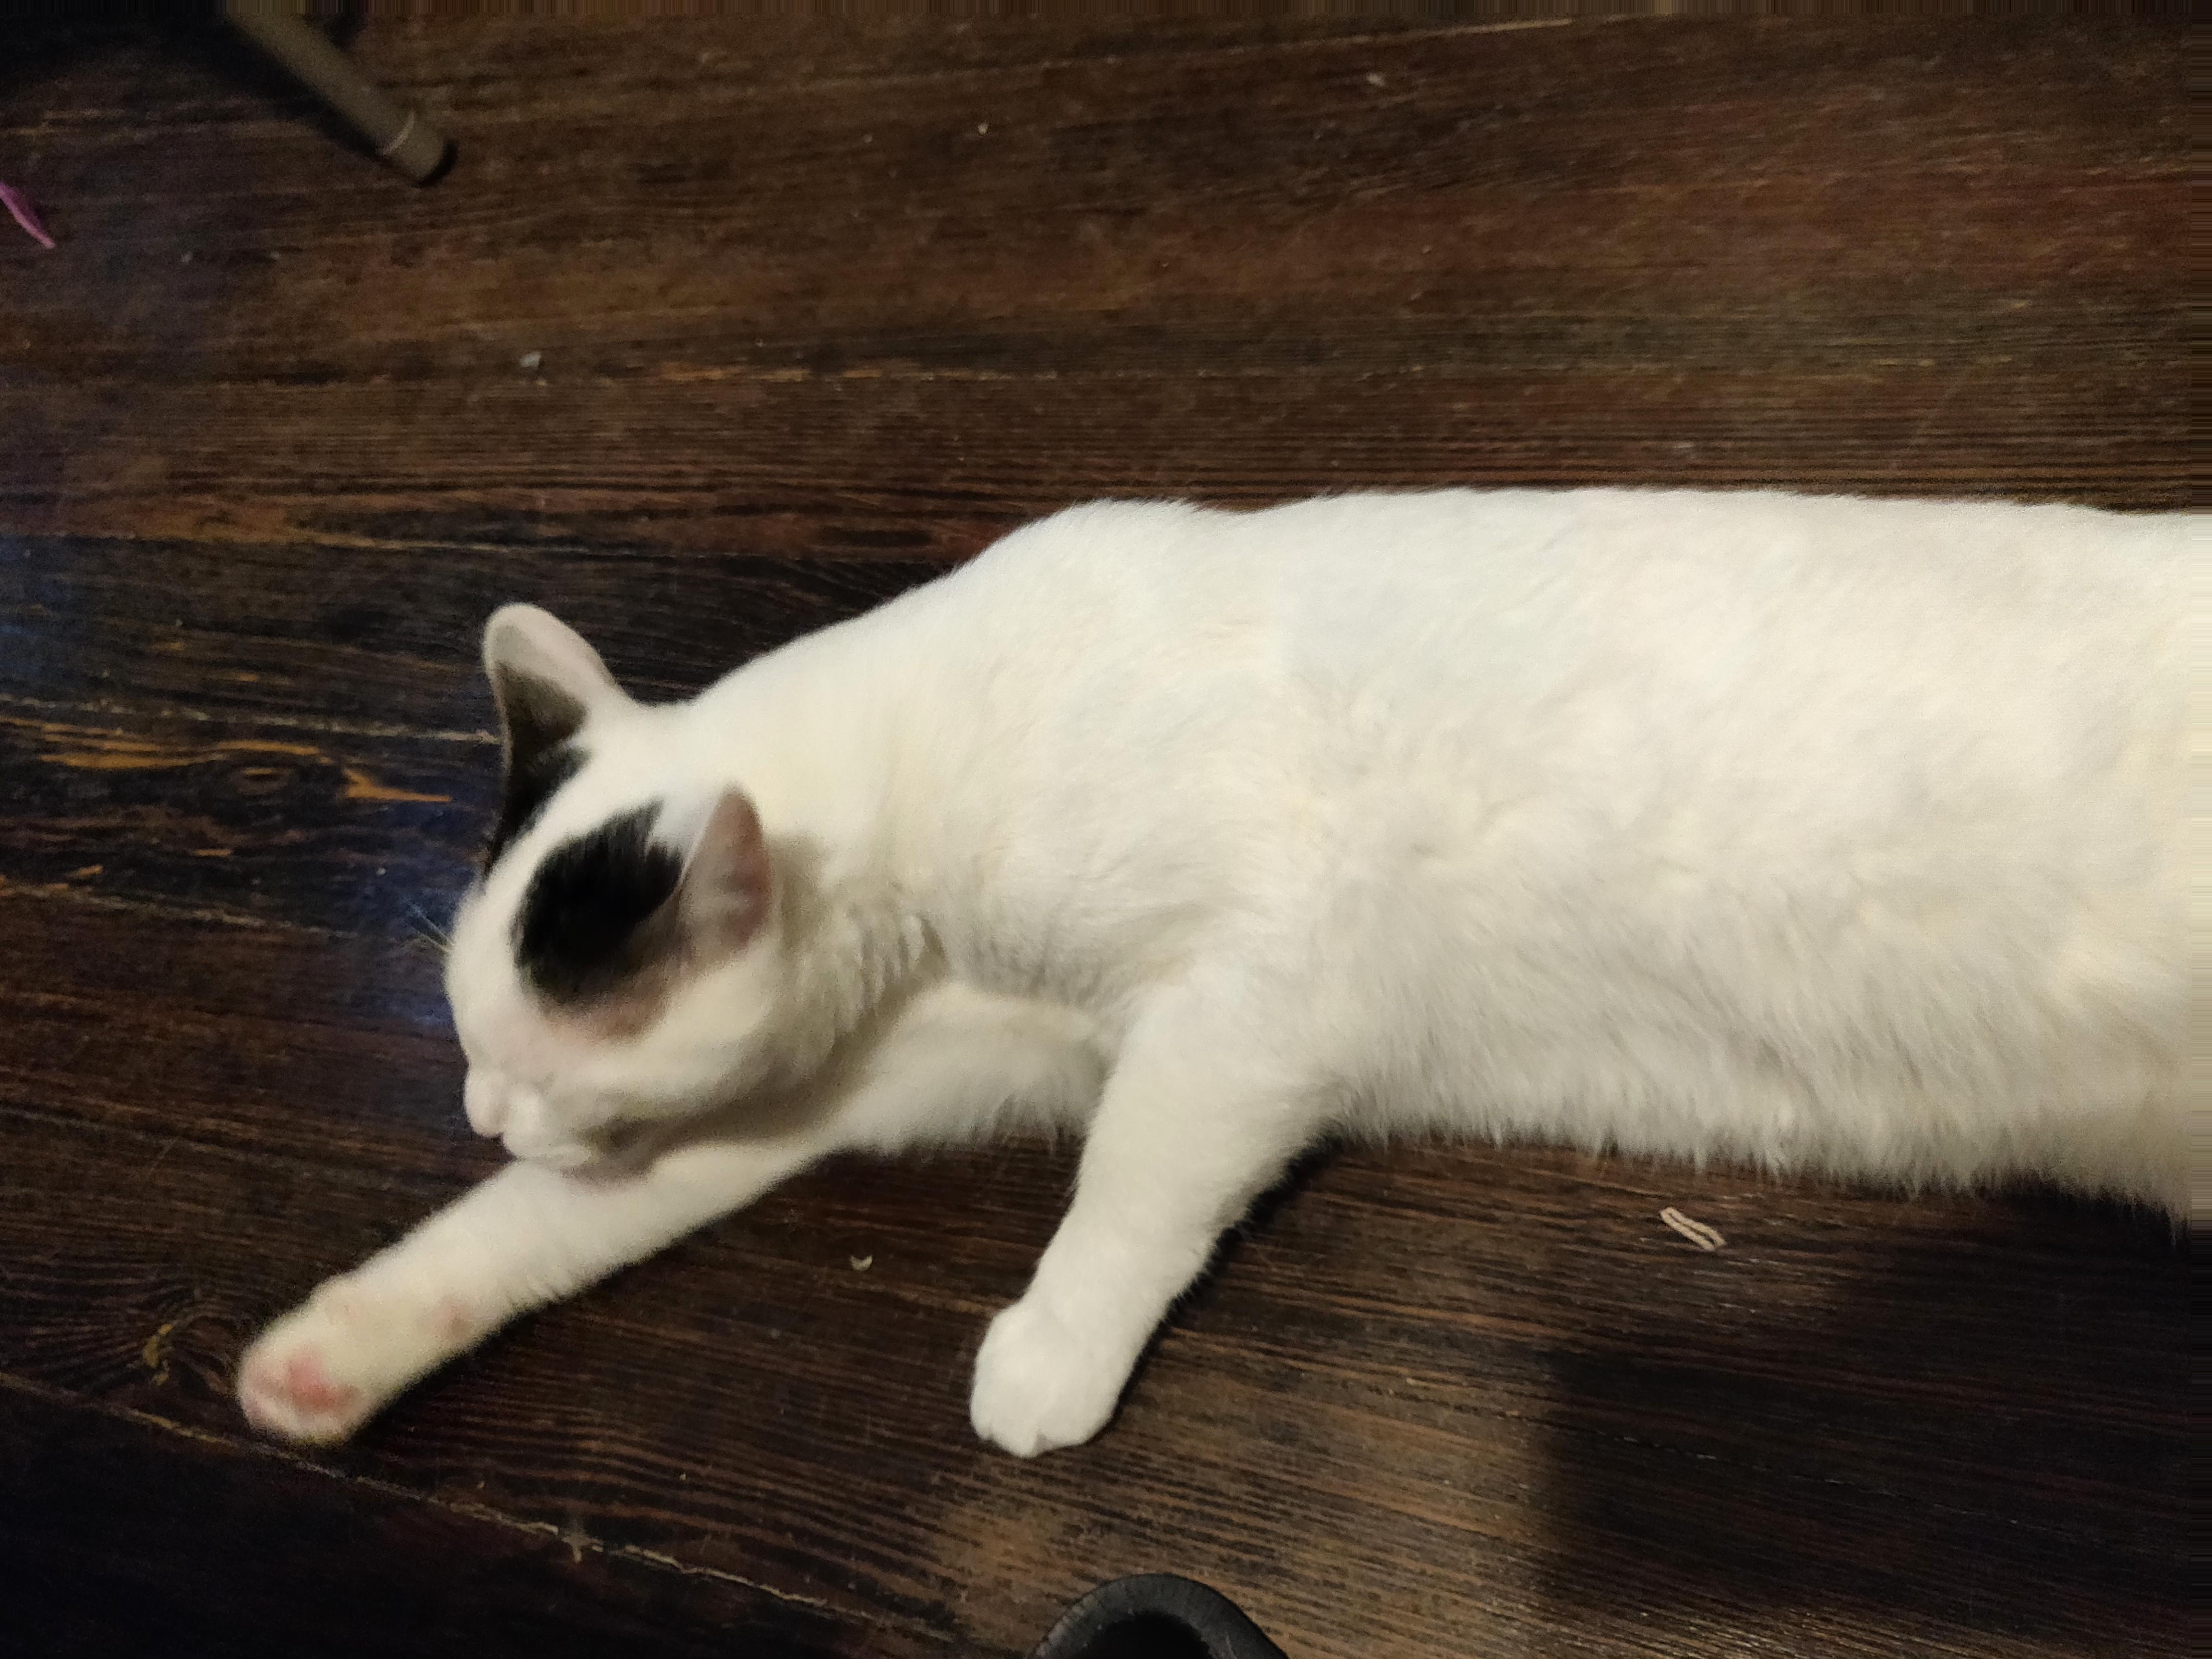cat: (278, 505, 2194, 1438)
